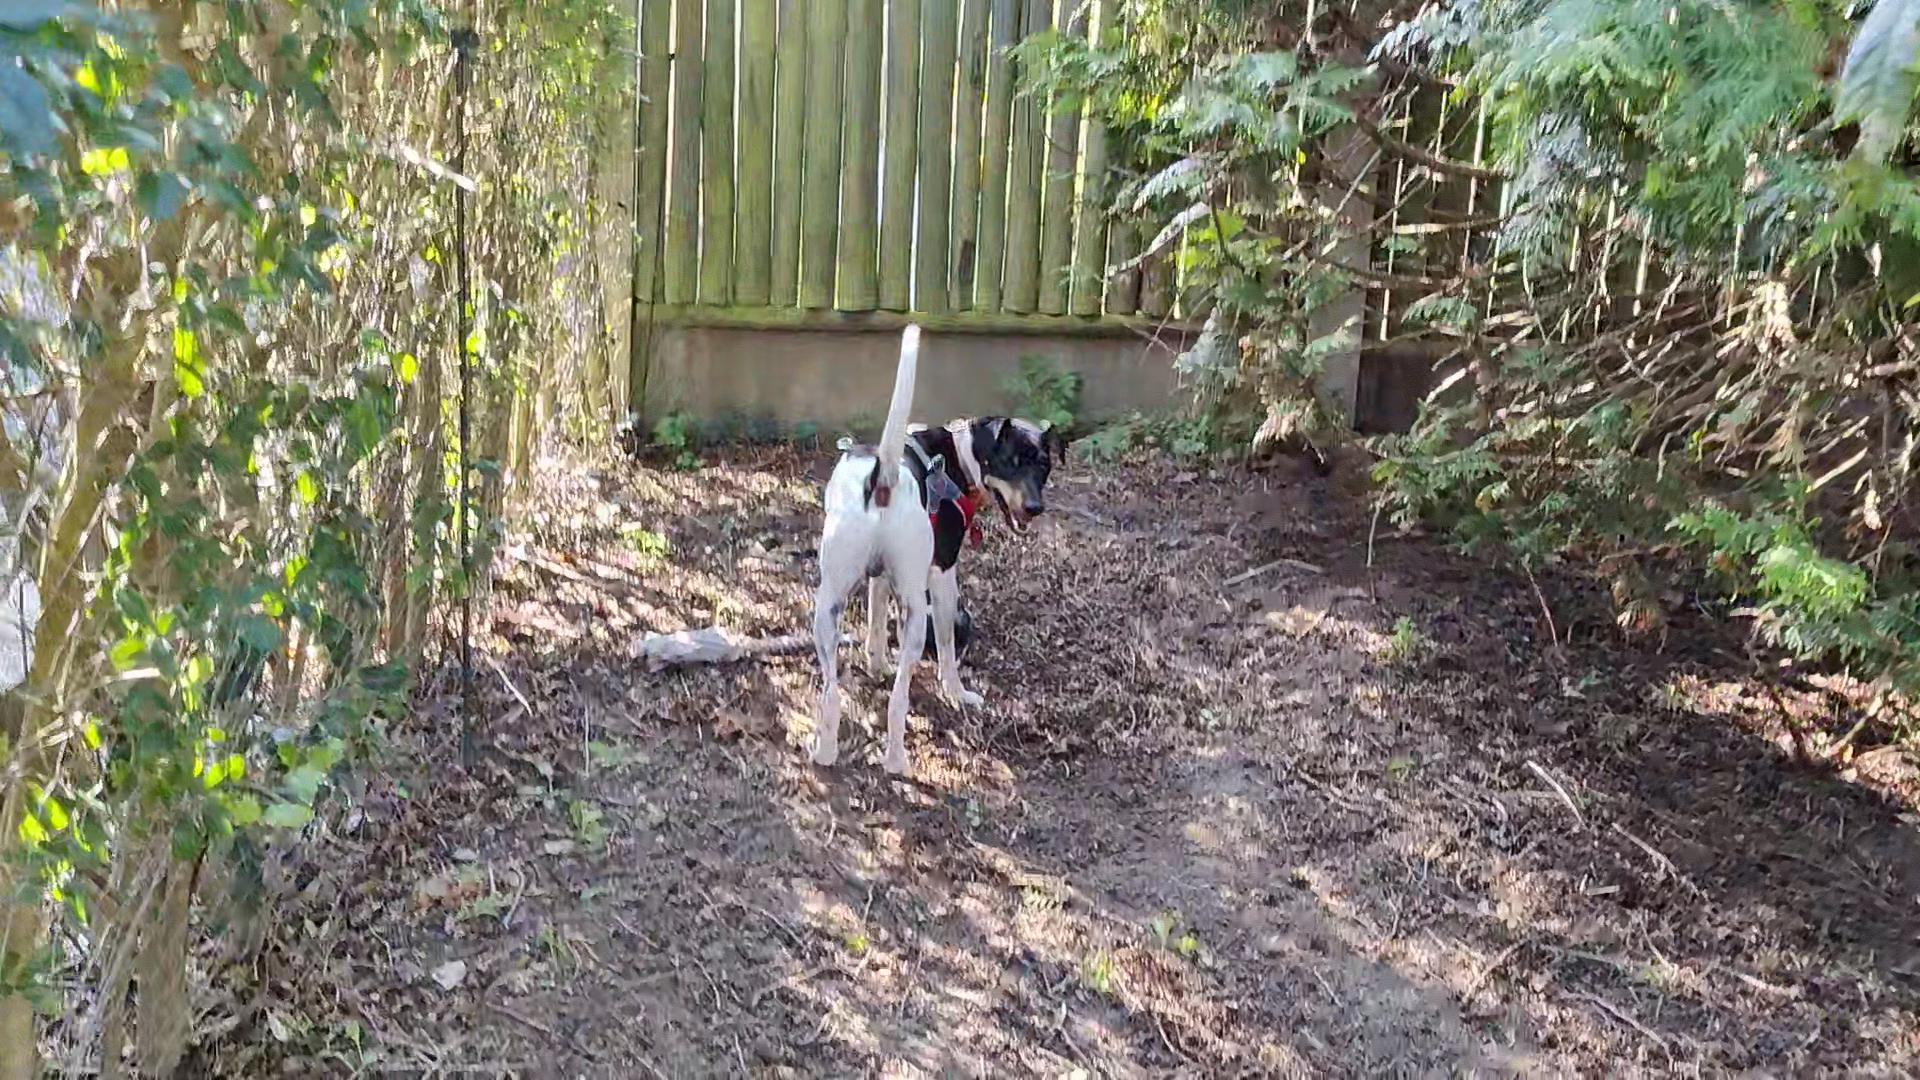Dog: (782, 286, 1085, 787)
